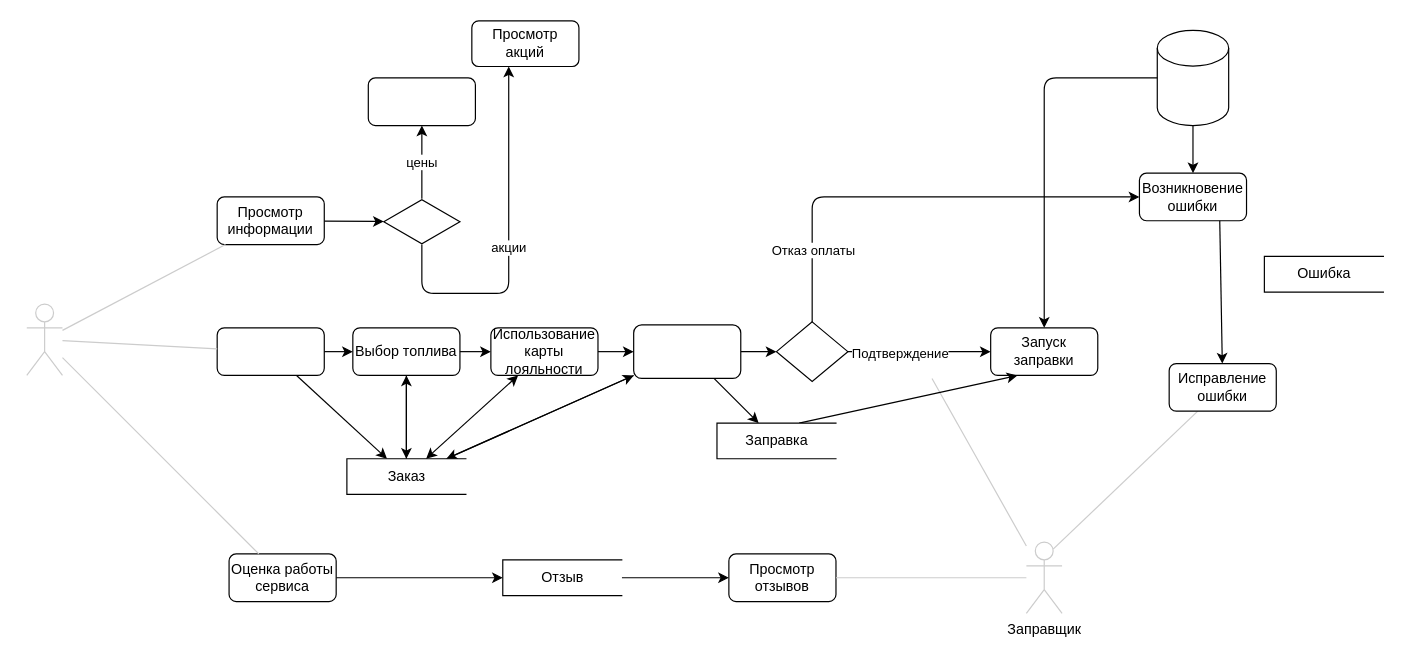
This 1404x659 diagram has some shape labels left out. The centre of each missing label's shape, as x and y in pixels:
"Клиент" goes at point 44,339.
"Оплата заказа" goes at point 686,351.
"Оформление заказа" goes at point 270,351.
"Просмотр цен" goes at point 421,101.
"Станция заправки" goes at point 1192,77.
